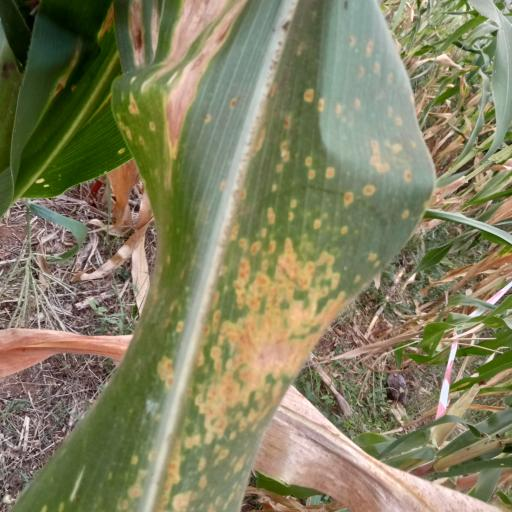Corn_Rust: (8, 0, 440, 512)
